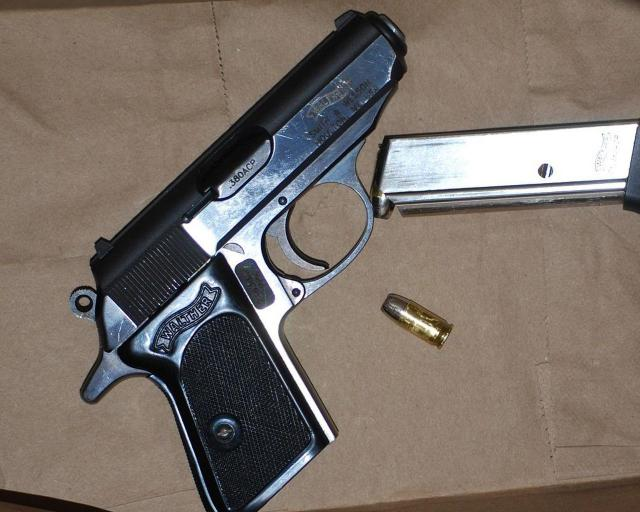handgun: (64, 8, 413, 512)
